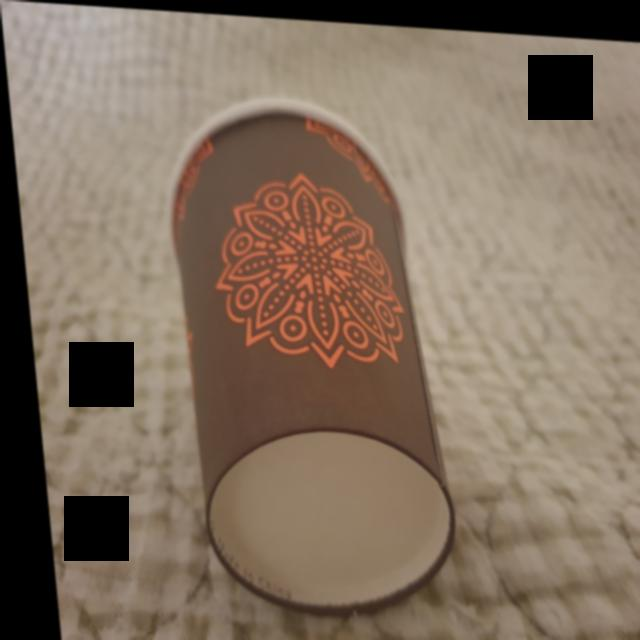cups: (152, 85, 462, 629)
